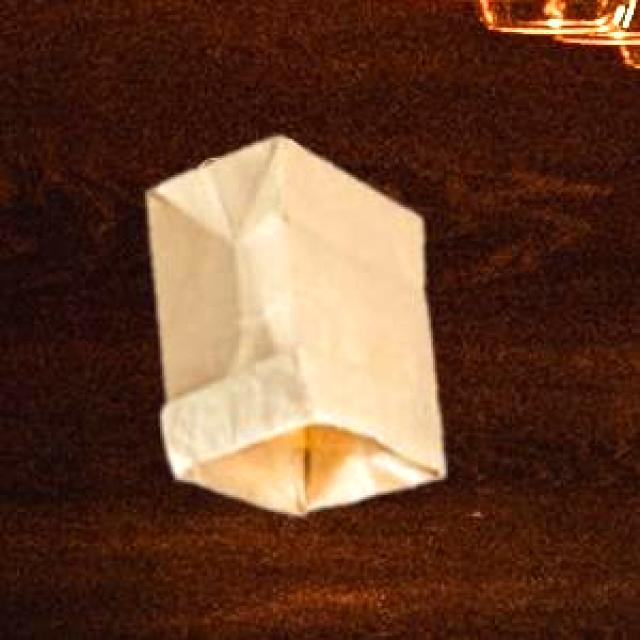Paper_Bag: (144, 133, 443, 511)
